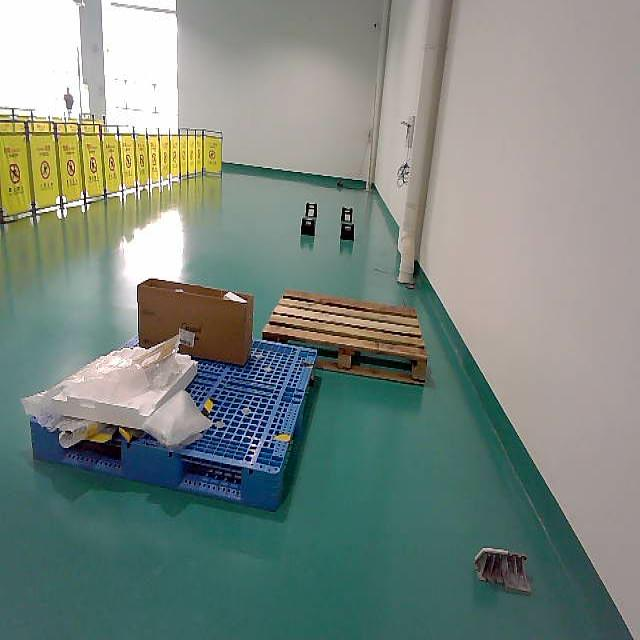euro: (337, 351, 350, 368)
